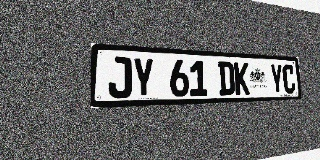1: (189, 60, 207, 96)
6: (170, 59, 189, 97)
C: (282, 64, 295, 94)
D: (218, 61, 235, 95)
J: (108, 56, 132, 99)
K: (234, 62, 250, 95)
Y: (132, 57, 154, 98), (270, 64, 284, 94)
